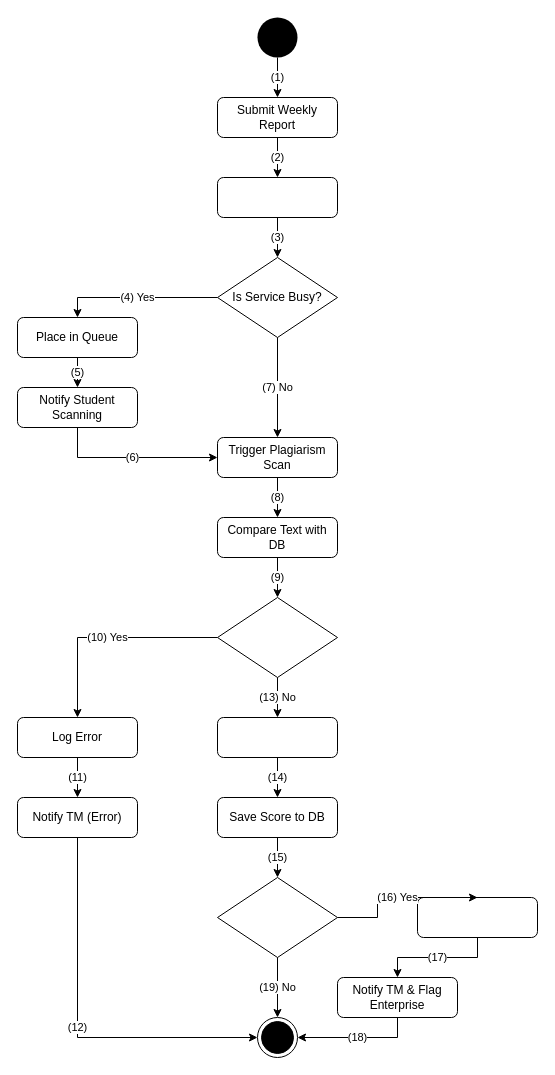
The diagram is 555 pixels wide and 1075 high, and some of its shapes have lost their labels. The shapes that lost their labels are listed below. From the top down, each one's box as (x1, y1, x2, y2) in pixels, then its label:
(216, 176, 338, 218): Update Status to Processing
(216, 596, 338, 678): Processing Error?
(216, 716, 338, 758): Calculate Jaccard Score
(216, 876, 338, 958): Score >= 85%?
(416, 896, 538, 938): Mark as Anomaly
